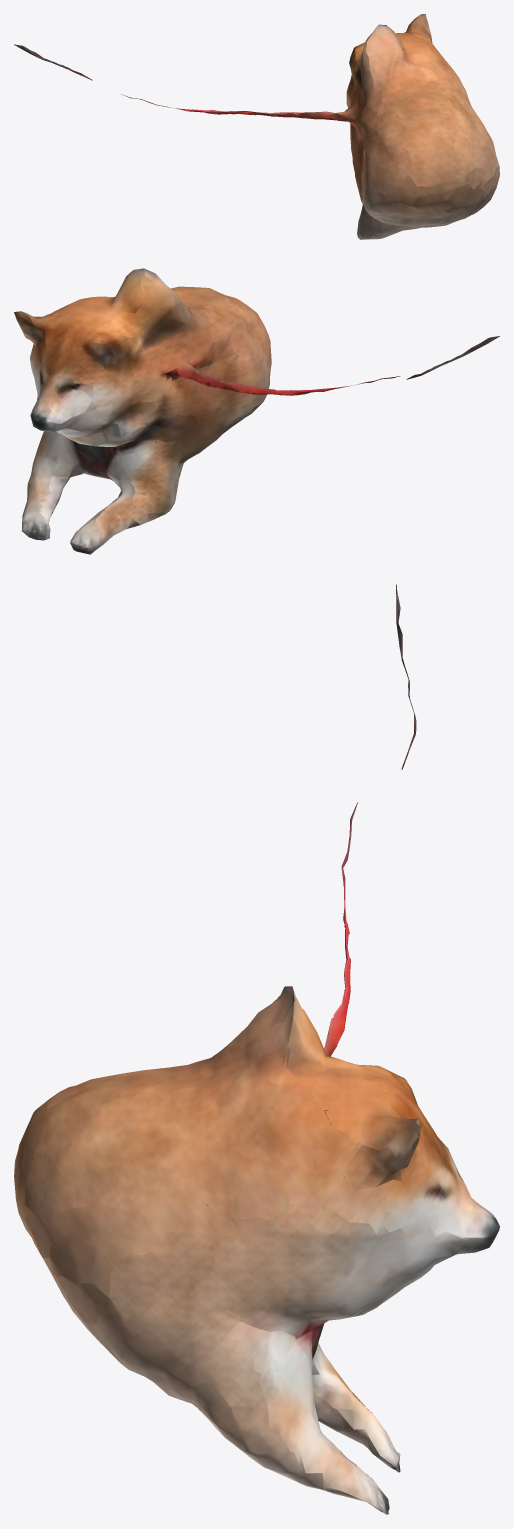
Rendered from 柴犬ai建模.glb.
The picture shows the model from 3 angles, top to bottom: view 1: azimuth 30°, elevation 25°; view 2: azimuth 150°, elevation 25°; view 3: azimuth 270°, elevation 25°; orthographic projection. The views are drawn at different scales.
Parts seen in each view (by area): view 1: world; view 2: world; view 3: world.
Part boxes in pixels (bbox=[...]): world: bbox=[14, 14, 499, 239]; world: bbox=[14, 268, 499, 554]; world: bbox=[14, 584, 499, 1514].
Size of the model in its own units: 0.0886 by 0.0542 by 0.0441.
Materials: 1 (1 with a texture image).
